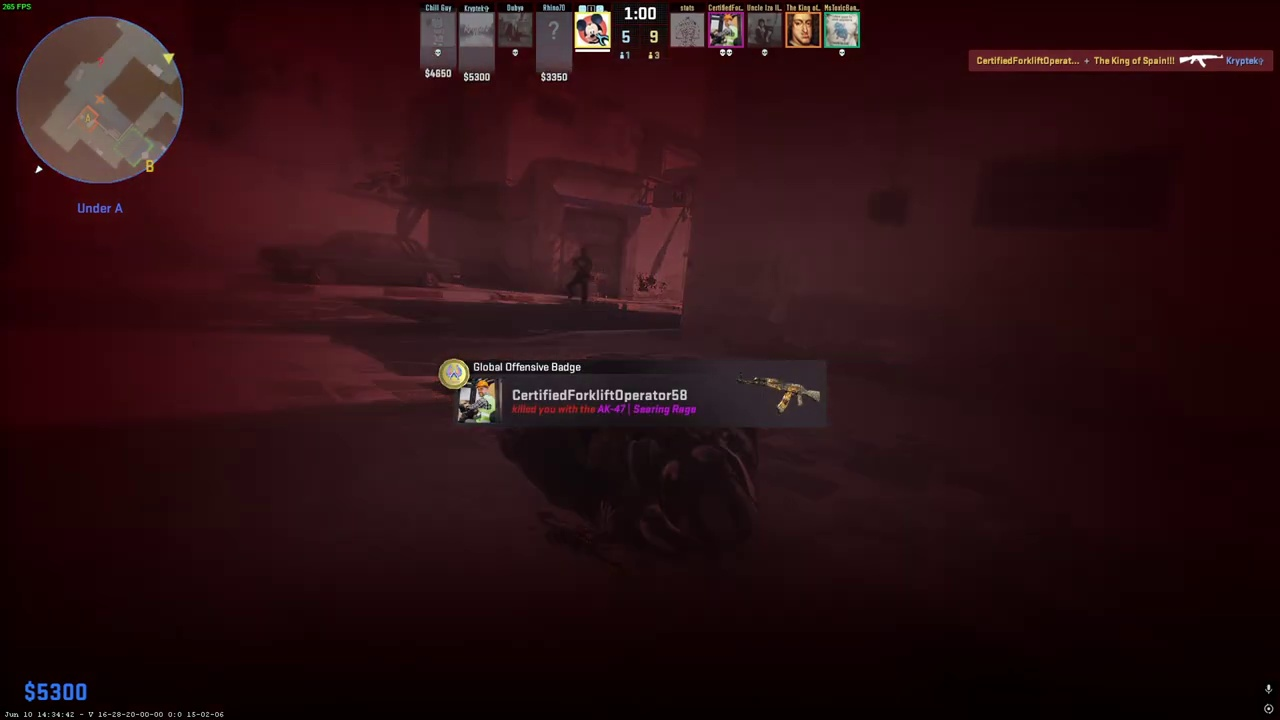Terrorist: (566, 248, 593, 304)
